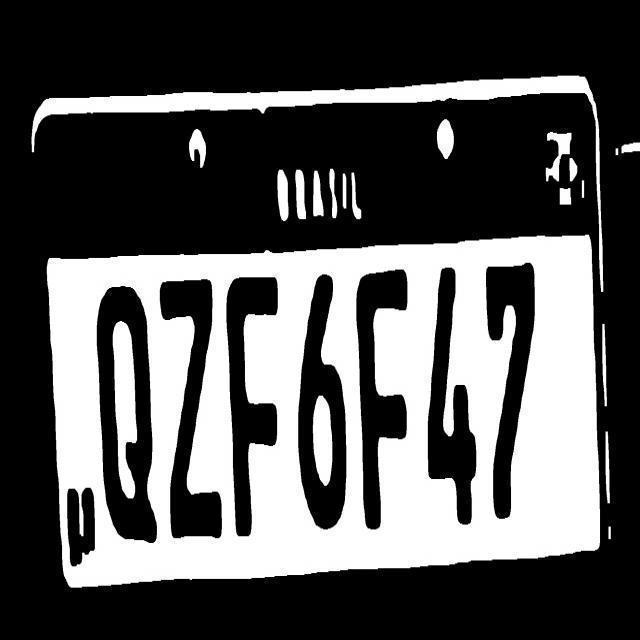4: (424, 257, 478, 530)
6: (292, 272, 347, 534)
7: (482, 245, 538, 537)
f: (354, 246, 408, 544), (225, 272, 282, 548)
q: (96, 276, 158, 554)
z: (158, 265, 224, 547)
